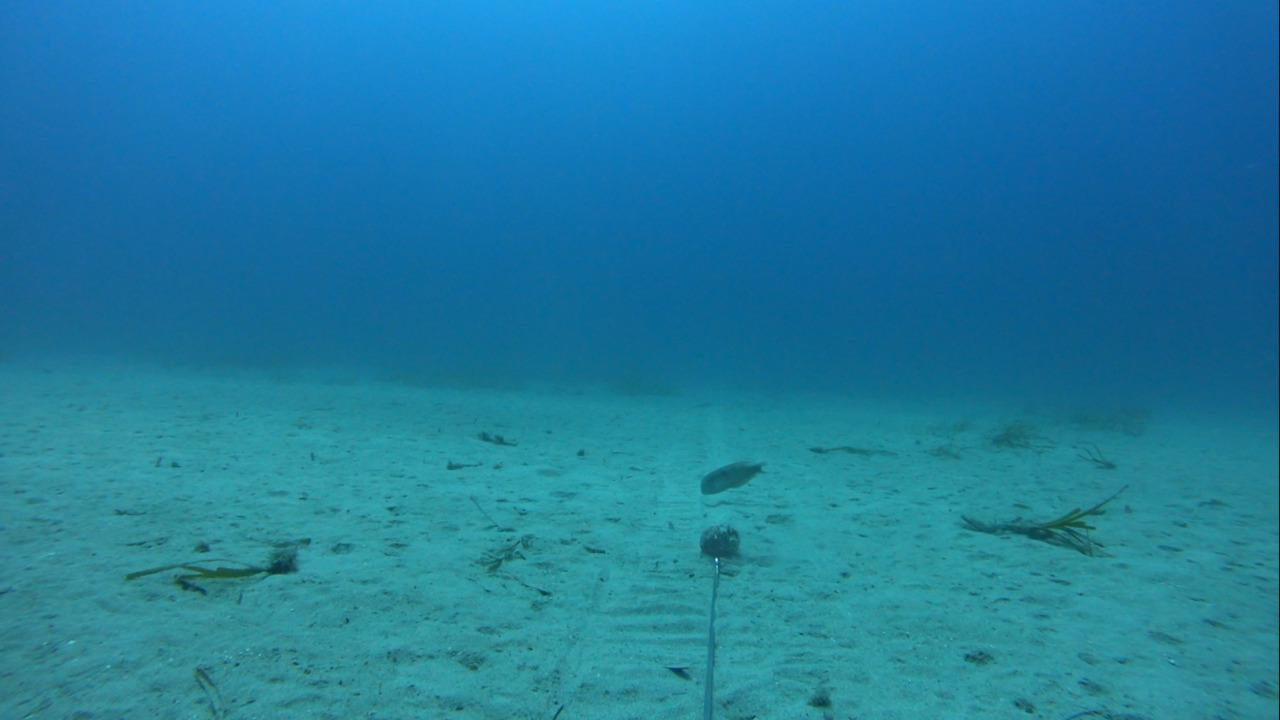raor: (694, 458, 768, 497)
